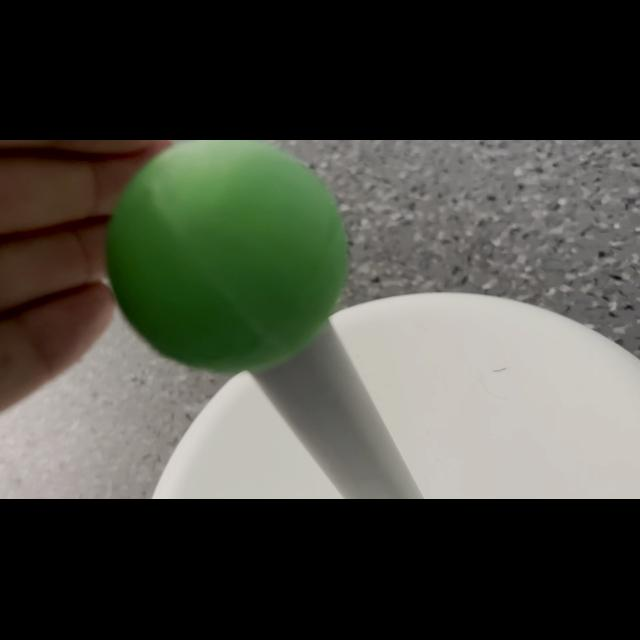objects: (104, 140, 352, 374)
